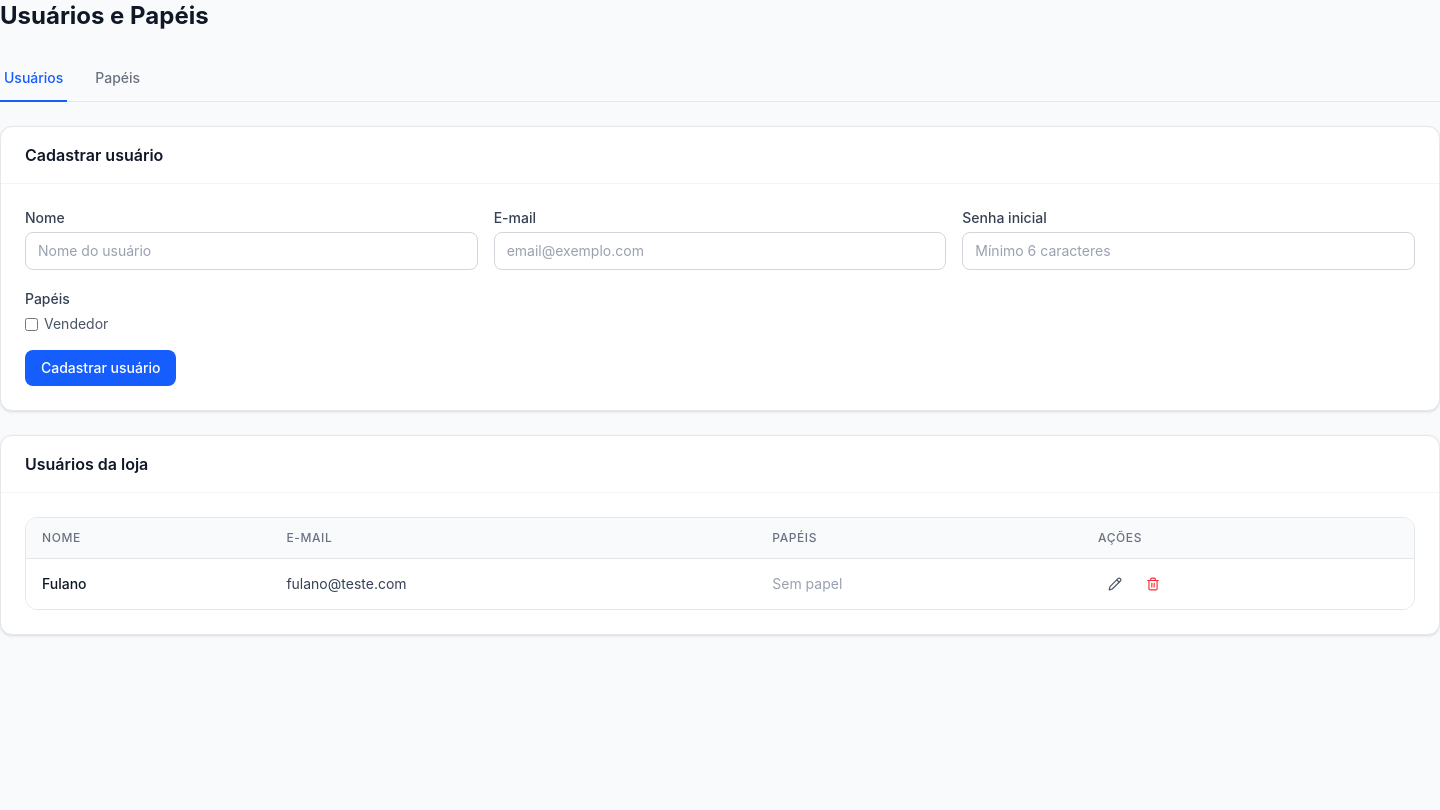
Test: UsuariosPage › should close the confirm modal when cancelling a usuario delete
Click the button titled "Excluir" at (1153, 584), box [1136,571,1170,597]
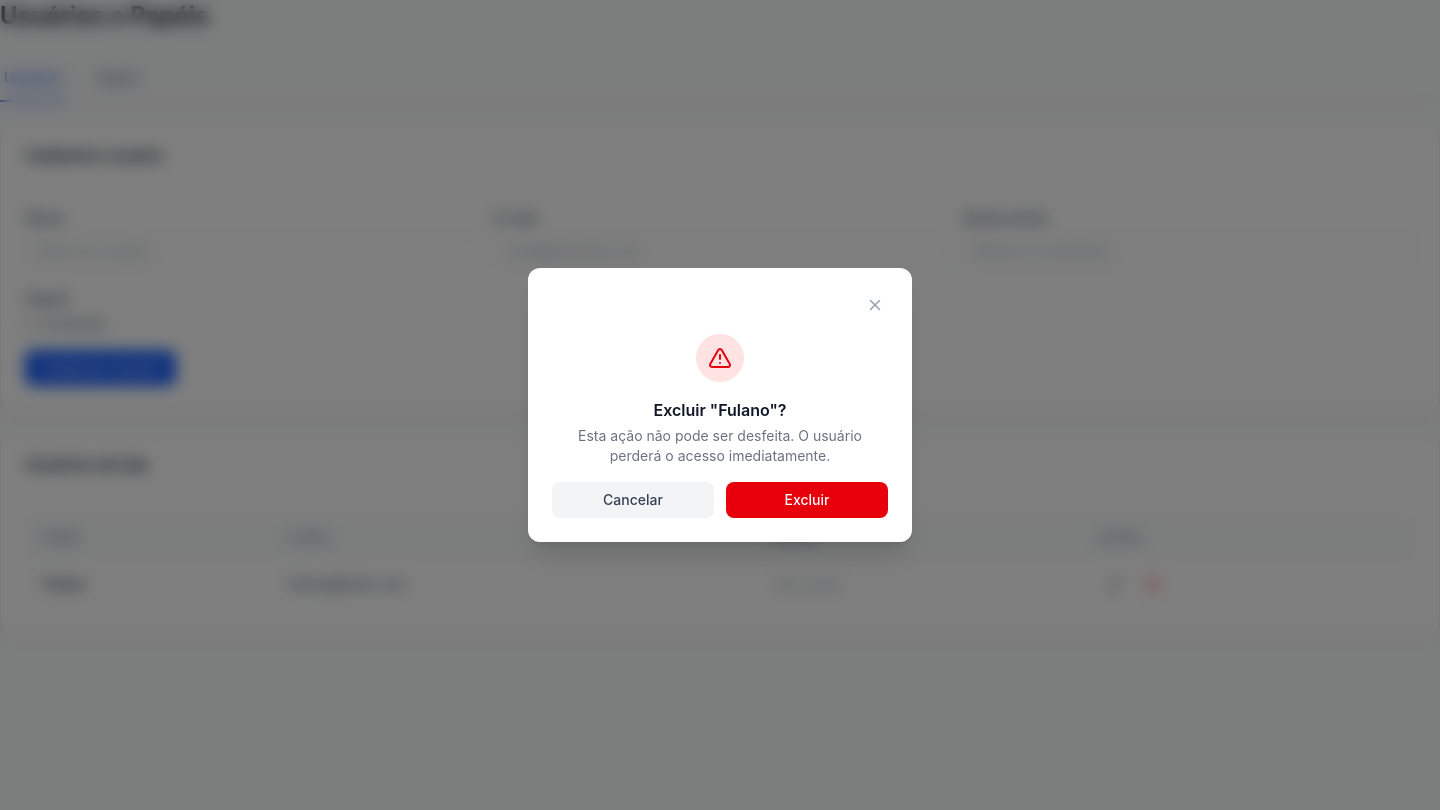
Click the button "Cancelar" at (633, 500), box [552,482,714,518]
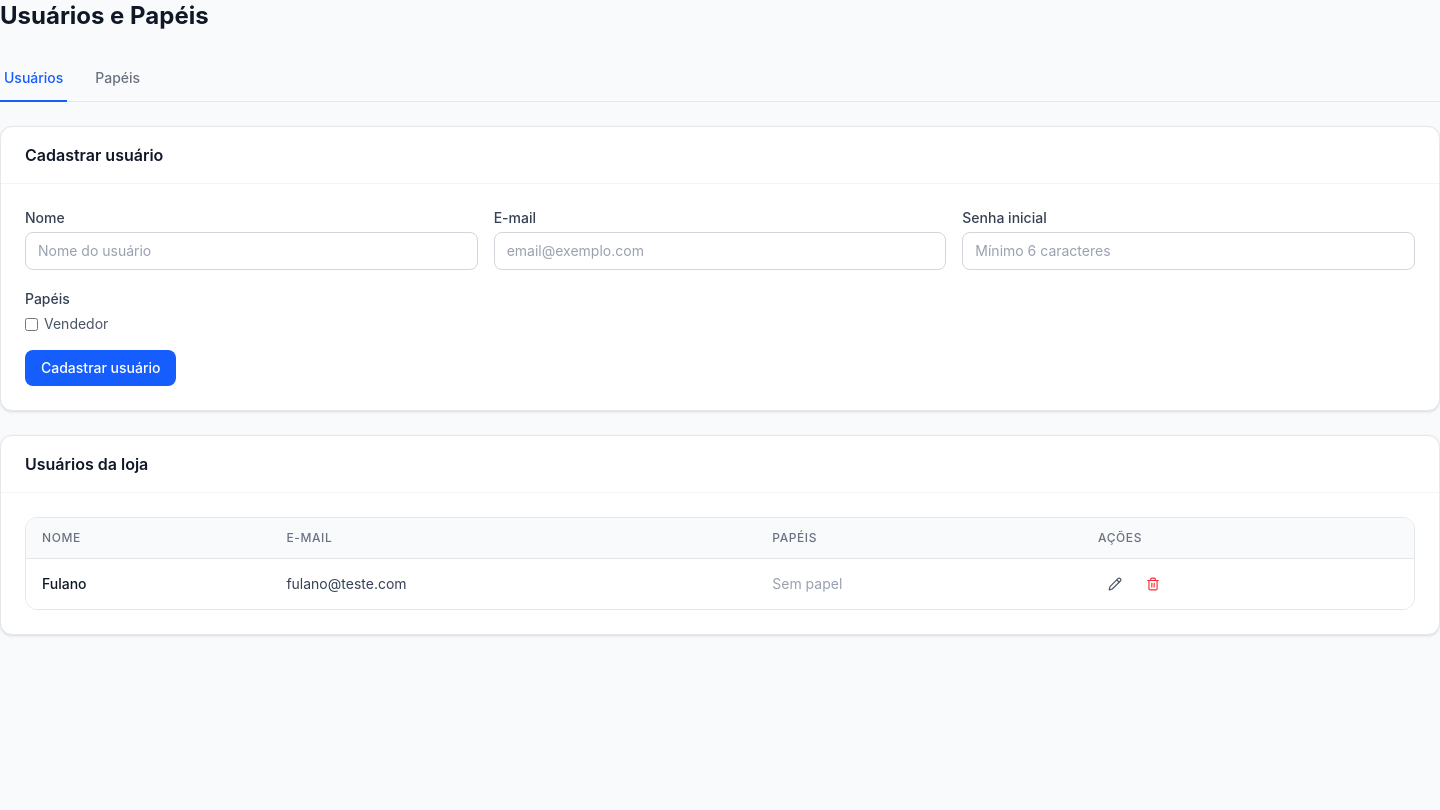
Now the text "O usuário perderá o acesso imediatamente." is gone
